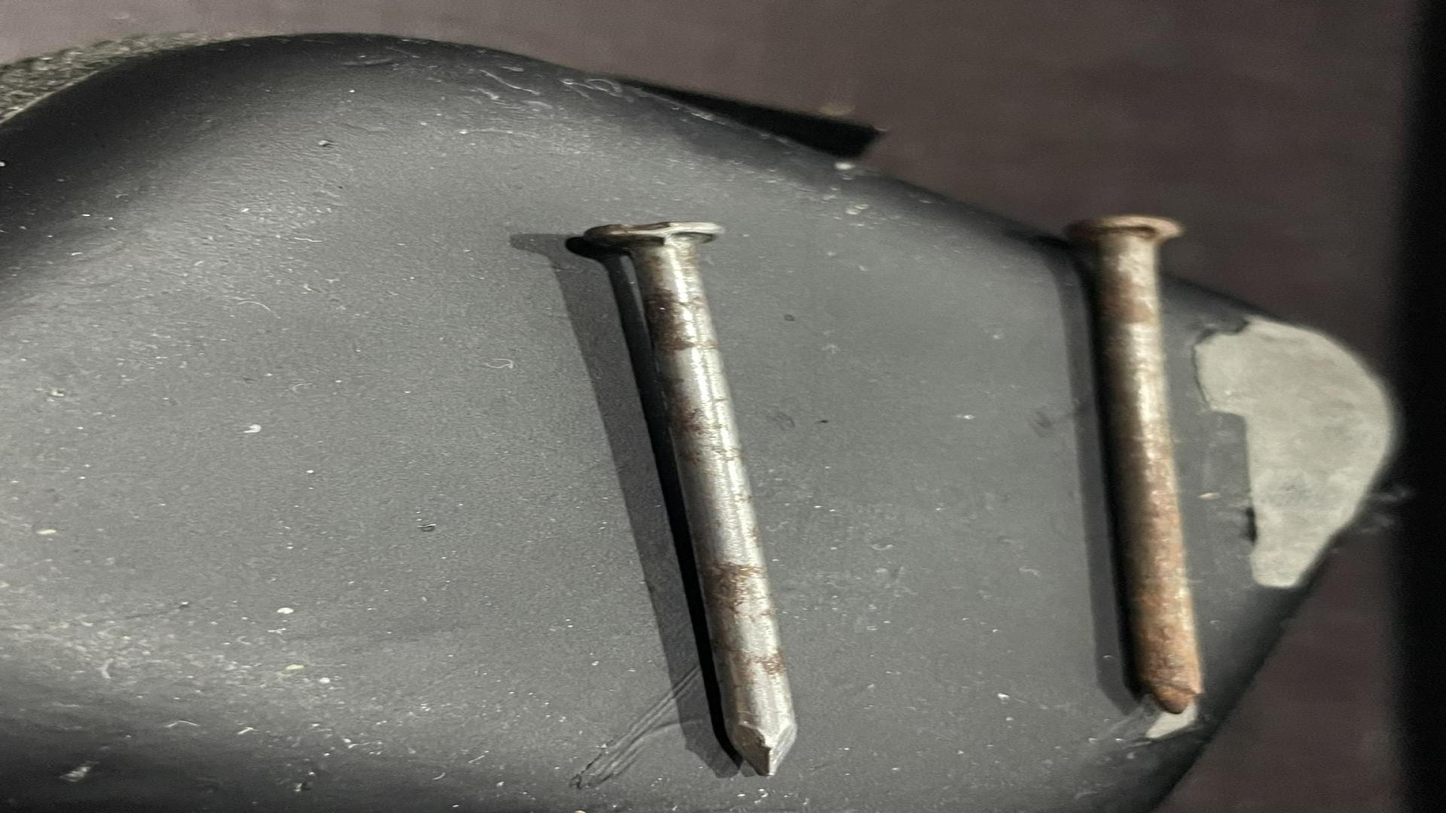nail: (505, 184, 882, 789), (995, 188, 1331, 737)
